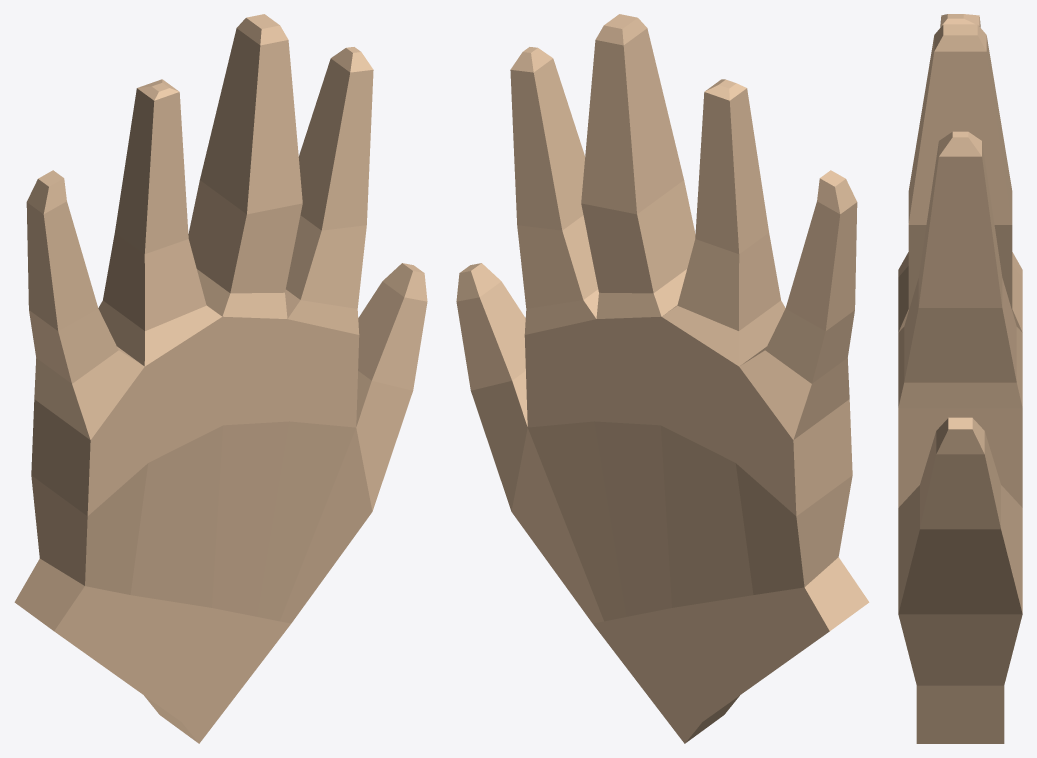
File: Hand.fbx
3 renders of one model, left to right at view 1: azimuth 30°, elevation 25°; view 2: azimuth 150°, elevation 25°; view 3: azimuth 270°, elevation 25°, orthographic. The views are drawn at different scales.
Visible parts, largest first — view 1: Cube; view 2: Cube; view 3: Cube.
Part boxes in pixels (box(x1,y1,x2,y2)): Cube: box(14, 14, 427, 743); Cube: box(456, 14, 869, 743); Cube: box(898, 14, 1022, 743).
Bounding box in the file's own units: 274 × 468 × 69.43.
